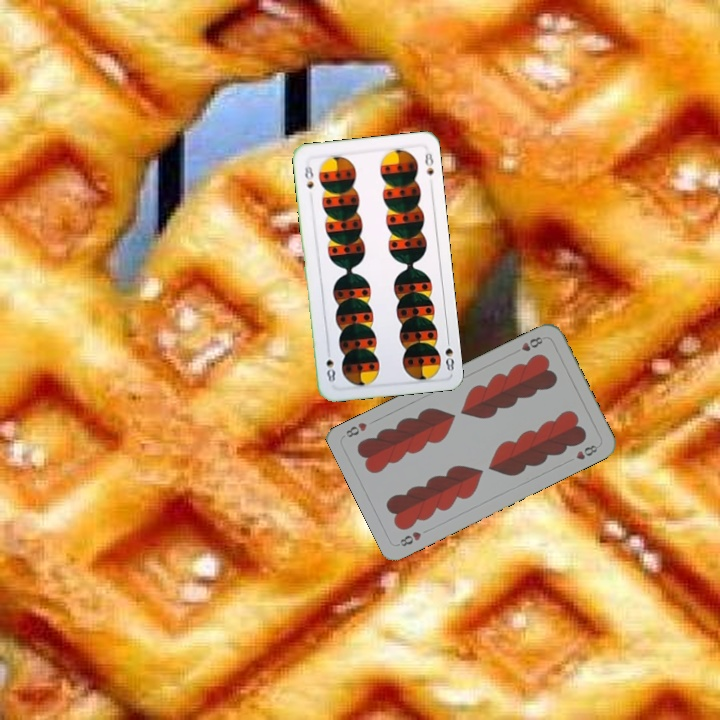H8: (510, 332, 545, 355), (394, 527, 424, 549)
S8: (441, 333, 456, 374), (301, 158, 316, 191)
